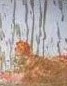Corrosion: (1, 40, 67, 86)
